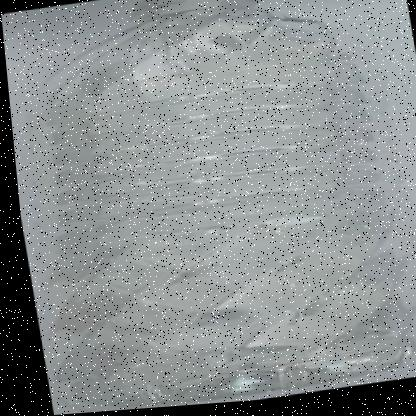open bottle: (1, 1, 416, 128)
